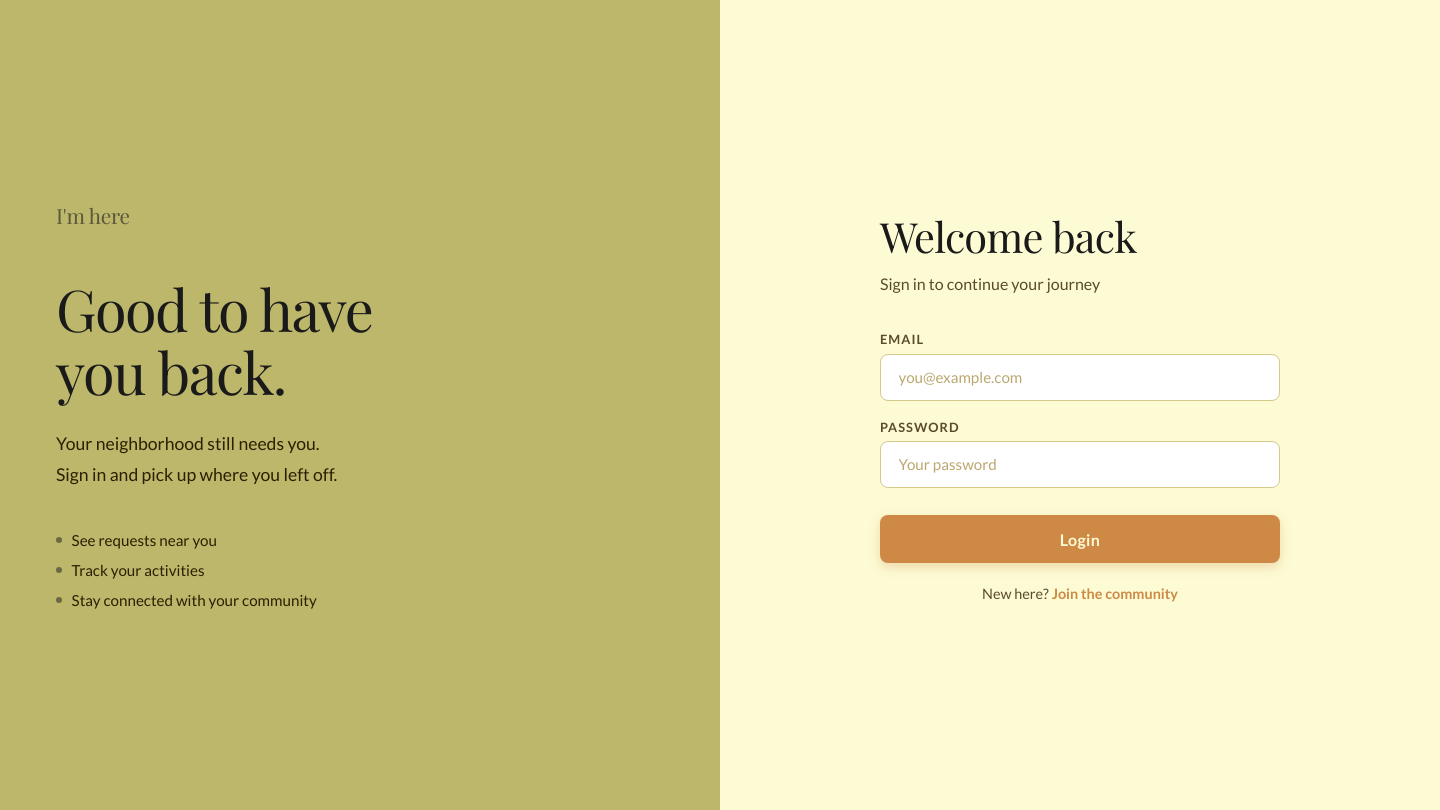
Scenario: Login page › shows "Signing in..." while the mutation is pending
The image size is (1440, 810).
Type "user@test.com" into the field labelled "Email".
click(1080, 377); type("user@test.com")  # box [880,354,1280,401]
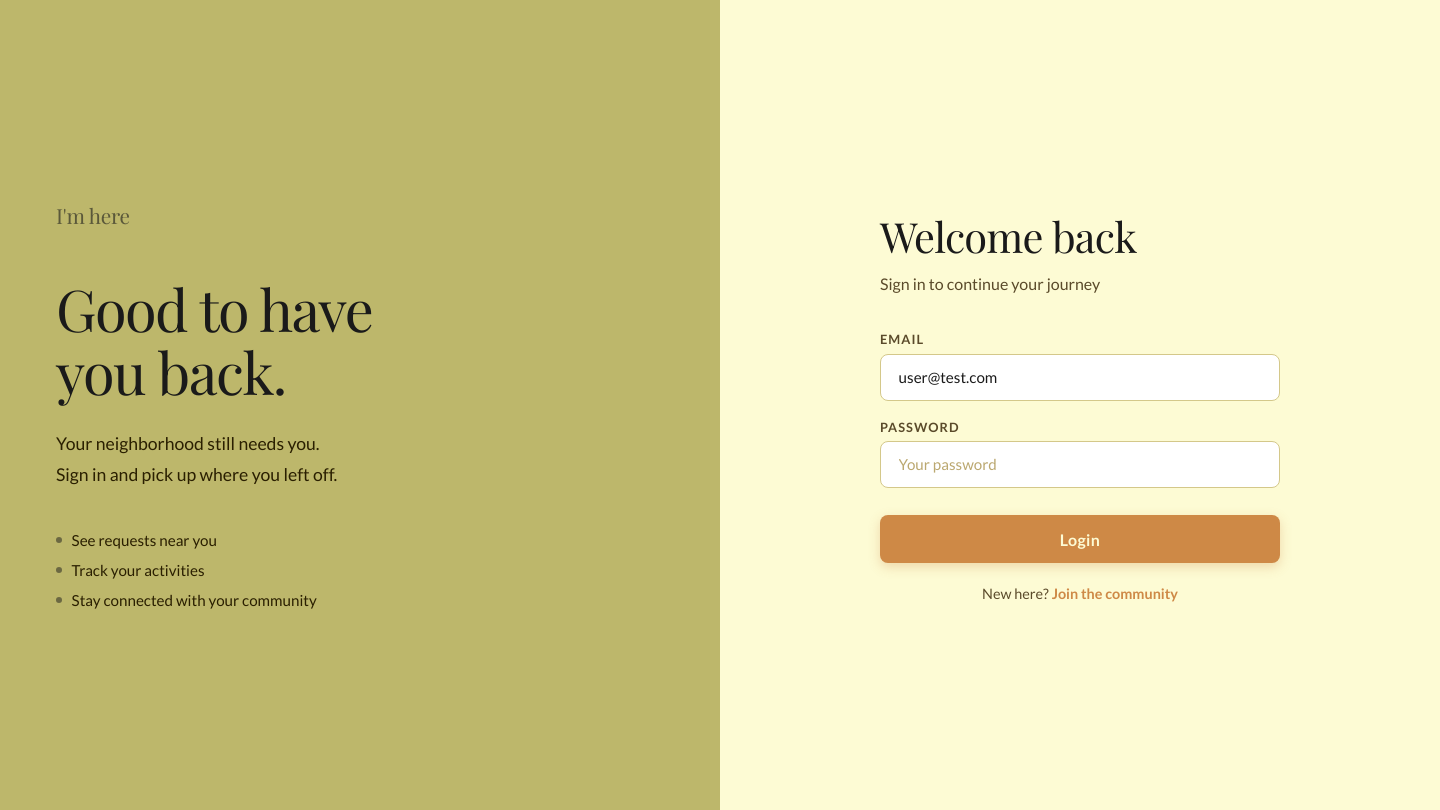
Type "password123" into the password field labelled "Password".
click(1080, 464); type("password123")  # box [880,441,1280,488]
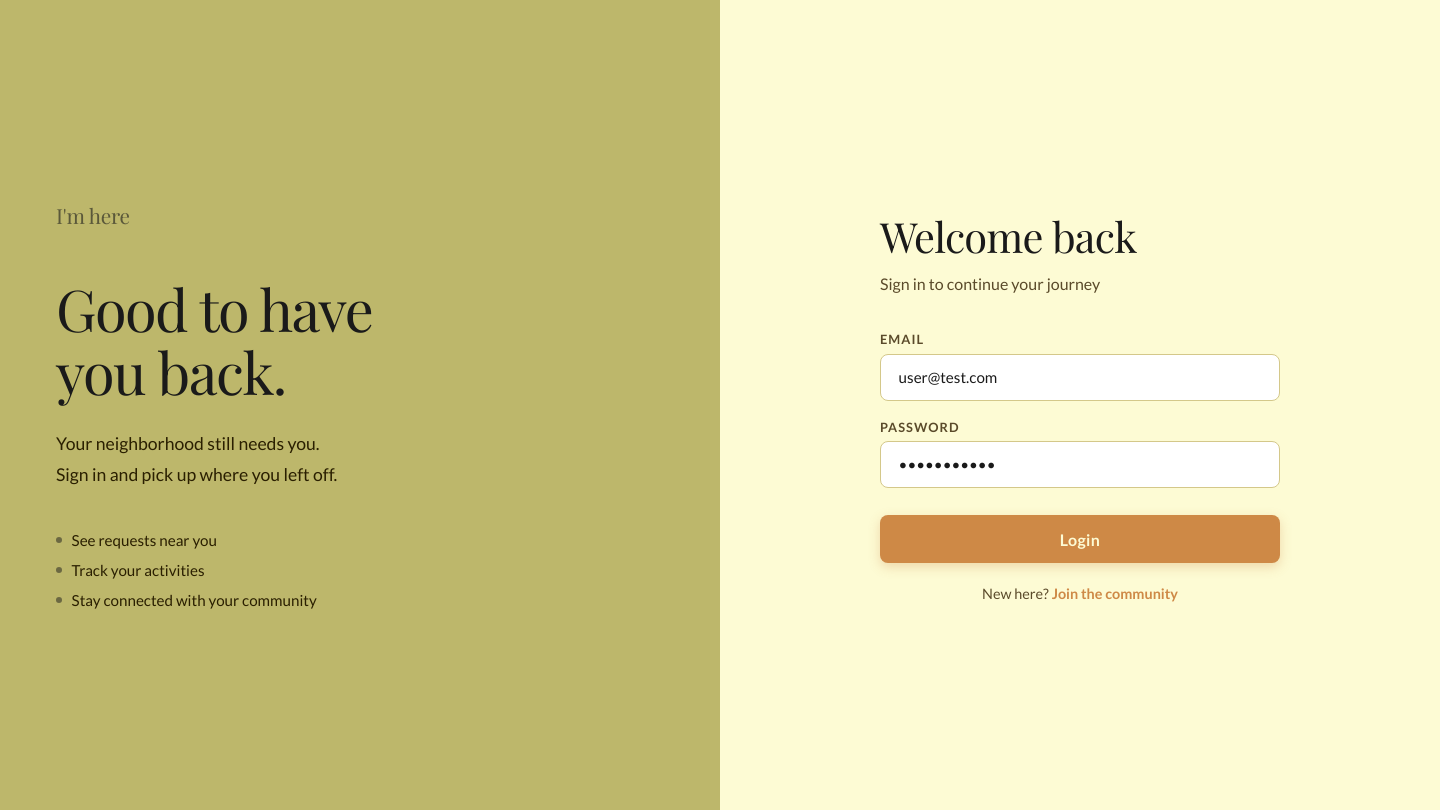
Click the button "Login".
click(1080, 539)  # box [880,515,1280,563]
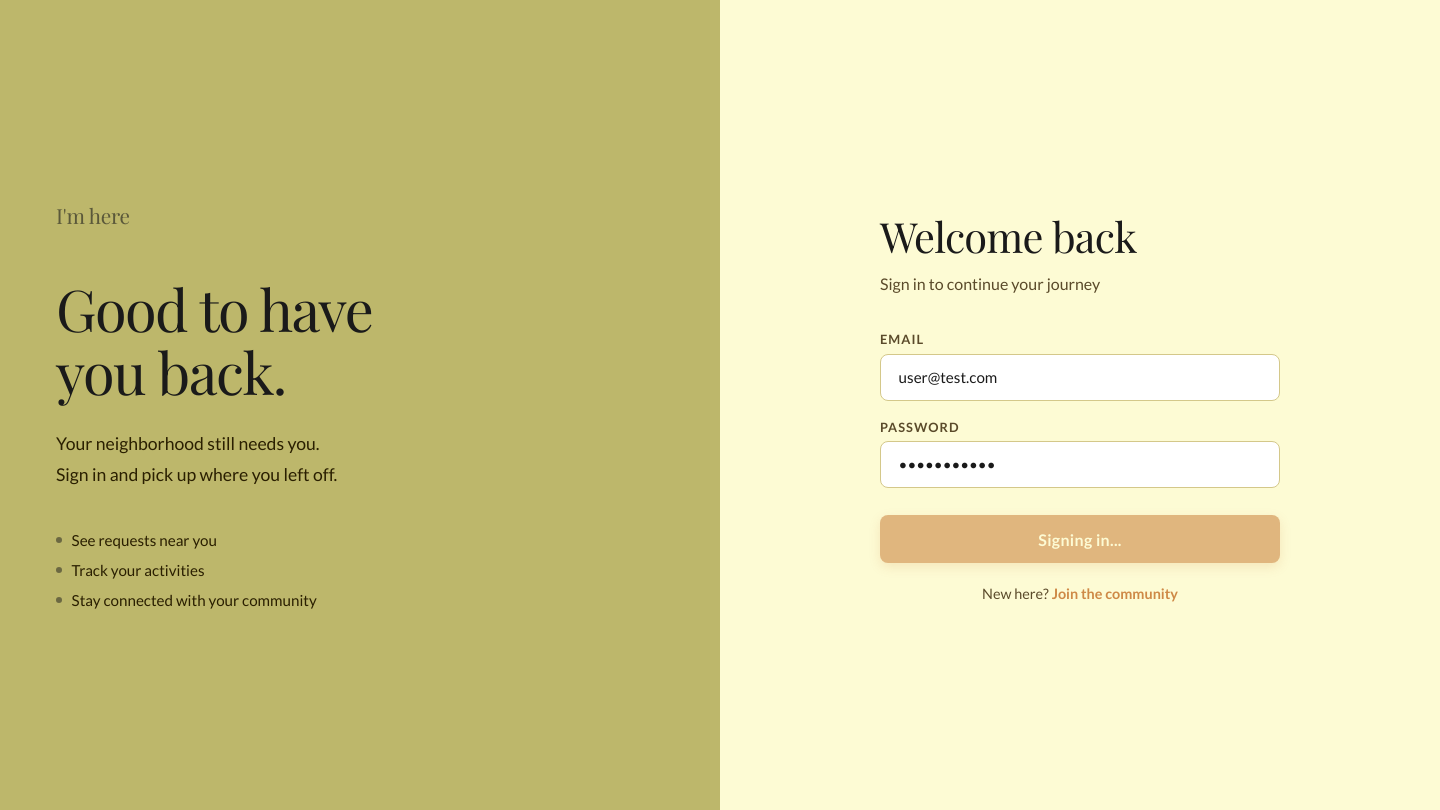
Check: the button "Signing in..." is shown, box [880,515,1280,563]
